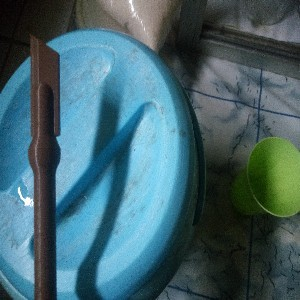cutter: (27, 30, 61, 300)
